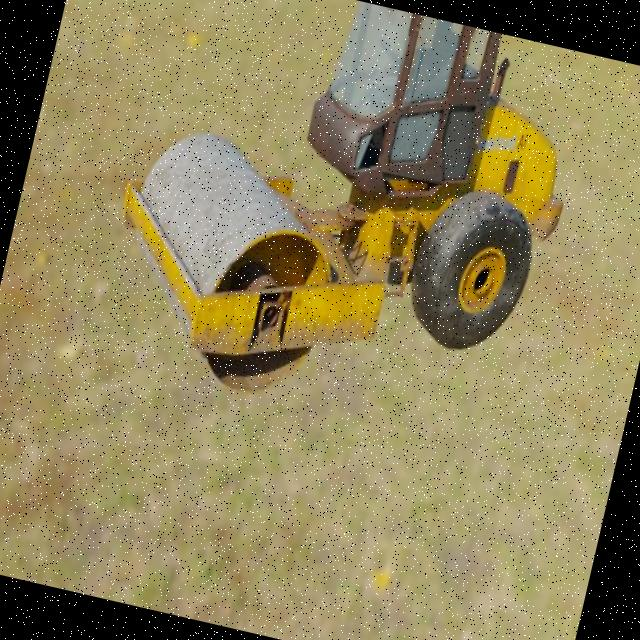Roller: (85, 0, 597, 456)
